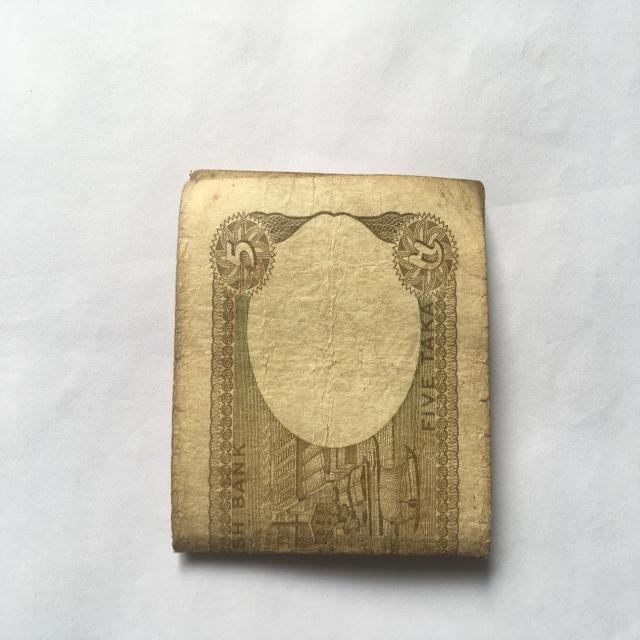Taka: (173, 154, 498, 562)
